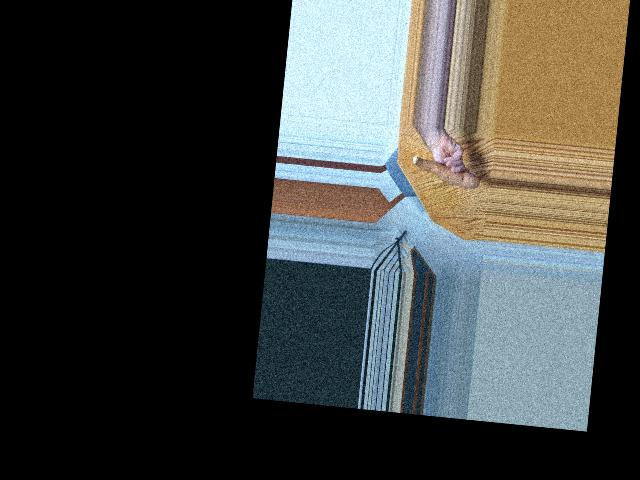sweet_potato: (408, 153, 480, 192)
